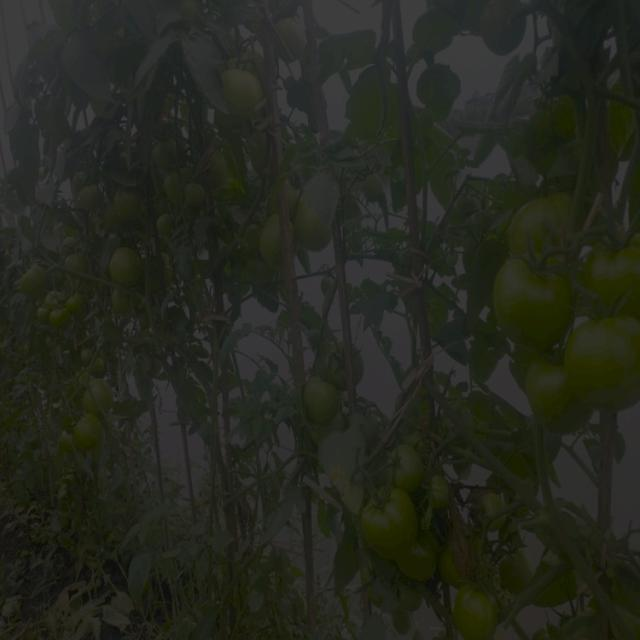tomato: (564, 312, 640, 412), (489, 261, 571, 346), (513, 189, 576, 268), (523, 355, 586, 427), (583, 236, 640, 311), (363, 487, 418, 557), (450, 580, 504, 636), (474, 1, 531, 54), (218, 63, 264, 124), (295, 196, 335, 260), (298, 371, 341, 427), (111, 244, 154, 297), (421, 466, 454, 518), (402, 540, 443, 581), (255, 213, 291, 256), (387, 444, 422, 488), (274, 19, 307, 64), (78, 416, 106, 455), (501, 550, 532, 585), (112, 183, 142, 217), (68, 186, 103, 214), (325, 345, 347, 387), (61, 246, 88, 279), (86, 386, 114, 413), (484, 491, 505, 526), (54, 307, 75, 333), (153, 217, 184, 234), (91, 360, 113, 383), (69, 292, 91, 315), (184, 179, 208, 199), (75, 350, 97, 370), (35, 307, 56, 323), (44, 292, 63, 309)
